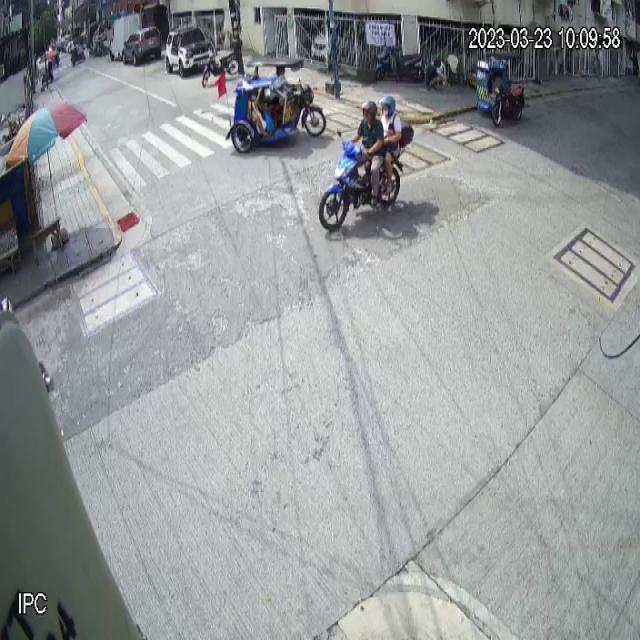Motorcycle: (319, 139, 404, 232), (374, 44, 425, 84)
Tricycle: (225, 56, 327, 154), (476, 50, 525, 126)
